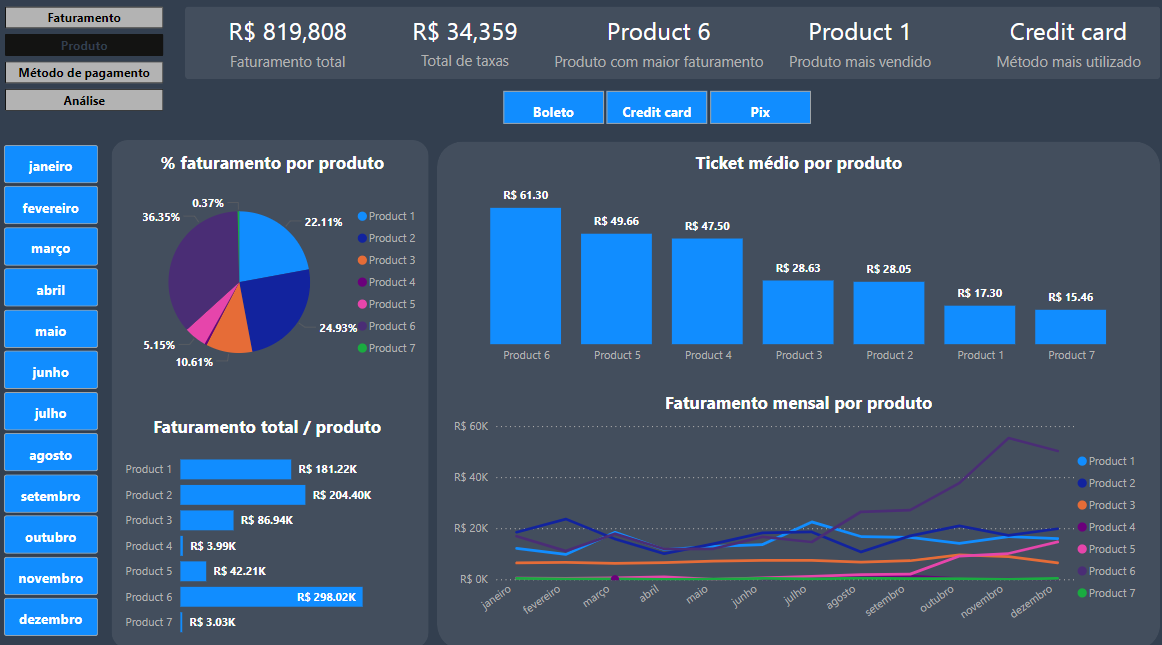

Layout of this report page (visuals, bound fields, positions):
{"tool":"powerbi","page":{"name":"Produto","canvas":[1280,720],"ordinal":1},"visuals":[{"type":"shape","box":[123.1,163.5,346.5,555.4],"z":1000},{"type":"shape","box":[479.3,165.2,790.2,555.4],"z":2000},{"type":"shape","box":[204,17.8,1065.5,79.3],"z":3000},{"type":"card","fields":{"Values":["Sum(Dataset.Amount paid in BRL by End Customer)"]},"box":[215.4,16.2,200.8,79.3],"z":4000},{"type":"card","fields":{"Values":["Sum(Dataset.Fees BRL)"]},"box":[431.1,15.4,155.4,81],"z":5000},{"type":"card","fields":{"Values":["Medidas.Produto mais vendido"]},"box":[849.7,22.6,183,66.4],"z":6000},{"type":"card","fields":{"Values":["Medidas.Método de pagamento mais utilizado"]},"box":[1079.2,17.8,176.5,76.1],"z":7000},{"type":"pieChart","title":"% faturamento por produto","fields":{"Category":["Dataset.Product"],"Y":["Sum(Dataset.Amount paid in BRL by End Customer)"]},"box":[127.9,174.9,341.7,262.3],"z":8000},{"type":"barChart","title":"Faturamento total / produto","fields":{"Category":["Dataset.Product"],"Y":["Sum(Dataset.Amount paid in BRL by End Customer)"]},"box":[127.9,464.3,330.3,254.2],"z":9000},{"type":"advancedSlicerVisual","fields":{"Values":["Dataset.Submission date.Variation.Hierarquia de datas.Mês"]},"box":[0,163.5,113.3,557],"z":10000},{"type":"advancedSlicerVisual","fields":{"Values":["Dataset.Payment method"]},"box":[545.7,105.2,346.5,47],"z":11000},{"type":"lineChart","title":"Faturamento mensal por produto","fields":{"Y":["Sum(Dataset.Amount paid in BRL by End Customer)"],"Category":["Dataset.Submission date.Variation.Hierarquia de datas.Mês"],"Series":["Dataset.Product"]},"box":[492.2,437.2,764.3,272],"z":12000},{"type":"card","fields":{"Values":["Medidas.Produto com maior faturamento"]},"box":[597.5,3.2,244.5,105.2],"z":13000},{"type":"columnChart","title":"Ticket médio por produto","fields":{"Category":["Dataset.Product"],"Y":["Medidas.Ticket médio"]},"box":[492.2,174.9,764.3,241.3],"z":14000},{"type":"pageNavigator","box":[6.5,17.8,173.3,116.6],"z":15000}]}

Visuals, with their boxes in screenshot pixels (x1, y1, x2, y2), scaled from the page's 1280x720 canvas onto the 1162x645 screenshot:
shape: 112:146:426:644
shape: 435:148:1152:644
shape: 185:16:1152:87
card - Sum(Dataset.Amount paid in BRL by End Customer): 196:15:378:86
card - Sum(Dataset.Fees BRL): 391:14:532:86
card - Medidas.Produto mais vendido: 771:20:937:80
card - Medidas.Método de pagamento mais utilizado: 980:16:1140:84
"% faturamento por produto" pieChart: 116:157:426:392
"Faturamento total / produto" barChart: 116:416:416:644
advancedSlicerVisual - Dataset.Submission date.Variation.Hierarquia de datas.Mês: 0:146:103:644
advancedSlicerVisual - Dataset.Payment method: 495:94:810:136
"Faturamento mensal por produto" lineChart: 447:392:1141:635
card - Medidas.Produto com maior faturamento: 542:3:764:97
"Ticket médio por produto" columnChart: 447:157:1141:373
pageNavigator: 6:16:163:120
